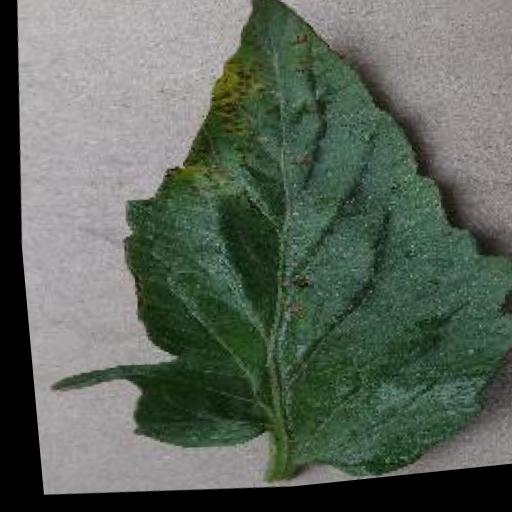Bacterial Spot: (7, 0, 512, 511)
